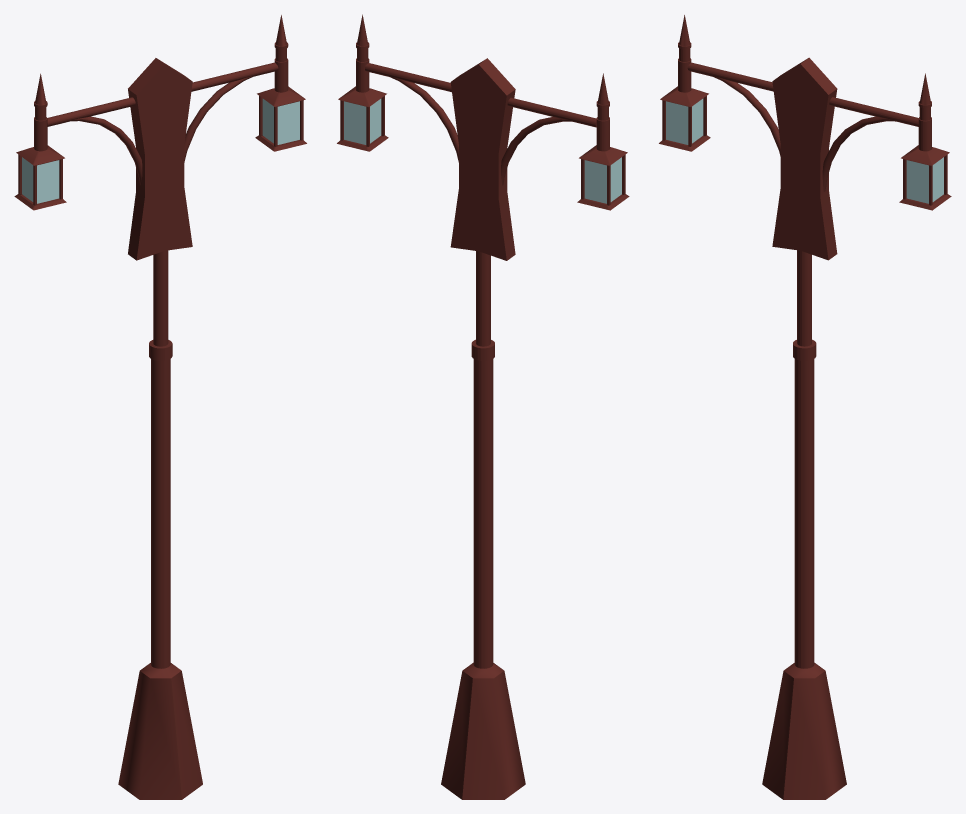
Rendered from light.fbx.
3 renders of one model, left to right at view 1: azimuth 30°, elevation 25°; view 2: azimuth 150°, elevation 25°; view 3: azimuth 330°, elevation 25°, orthographic.
Parts seen in each view (by area): view 1: Cube; view 2: Cube; view 3: Cube.
Part boxes in pixels (x1,y1,x2,y2): Cube: (14, 15, 306, 799); Cube: (337, 14, 629, 799); Cube: (659, 15, 951, 799).
Size of the model in its own units: 590 by 1525 by 158.
